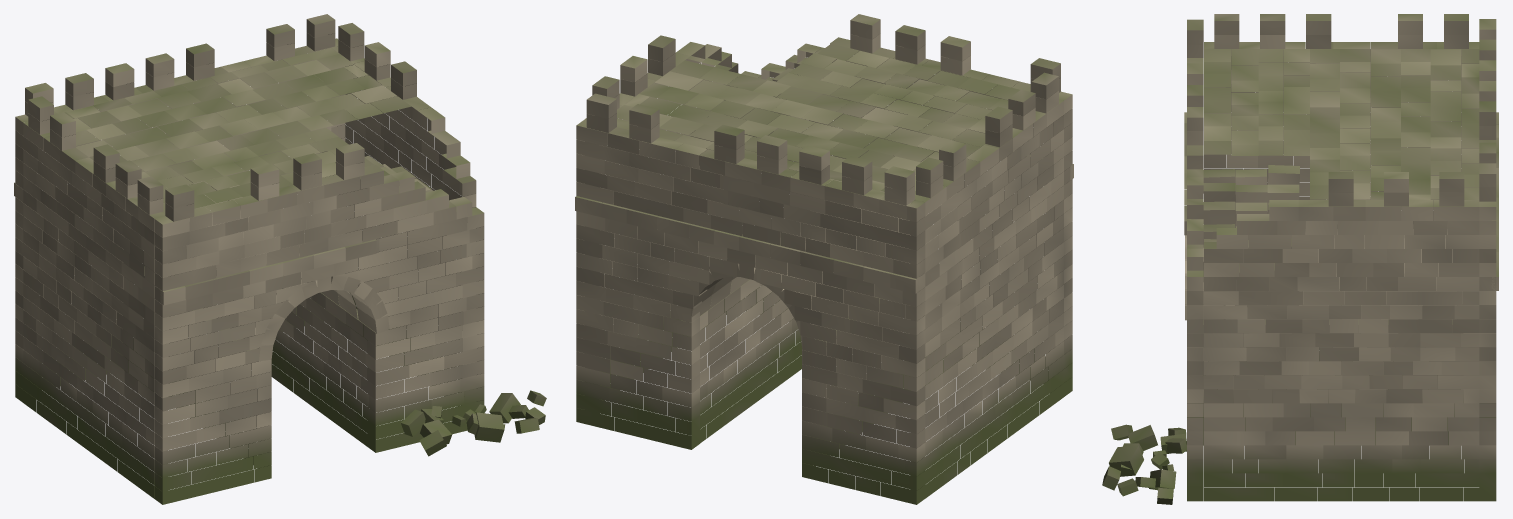
File: citadel_gate_mid.glb
The picture shows the model from 3 angles, left to right: view 1: azimuth 30°, elevation 25°; view 2: azimuth 150°, elevation 25°; view 3: azimuth 270°, elevation 25°; orthographic projection. The views are drawn at different scales.
Parts seen in each view (by area): view 1: citadel_gate_mid; view 2: citadel_gate_mid; view 3: citadel_gate_mid.
Boxes of the visible parts, x1,y1,x2,y2 form: citadel_gate_mid: (14,14,546,504); citadel_gate_mid: (575,14,1073,504); citadel_gate_mid: (1102,14,1498,504).
Bounding box in the file's own units: 63.96 × 50.57 × 56.4.
